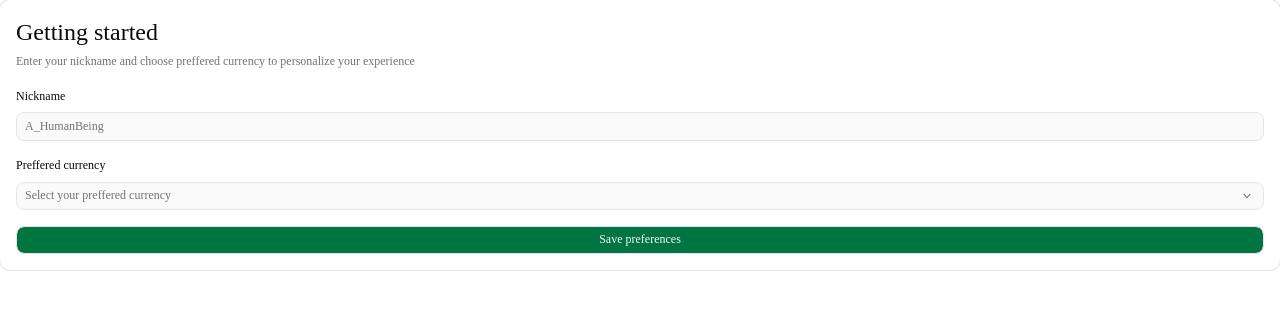
Test: CreateUserForm › should filter currencies by code as the user types
The image size is (1280, 329).
Press the mouse on the dropdown: (626, 196) [17,182,1235,210]
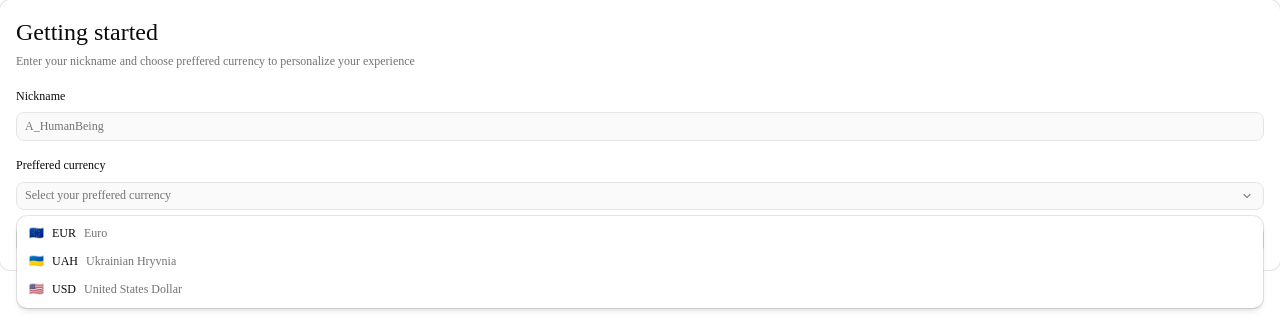
Now the list is shown, box [29,226,182,296]
In the dropdown: (626, 196) [17,182,1235,210], type "uah"
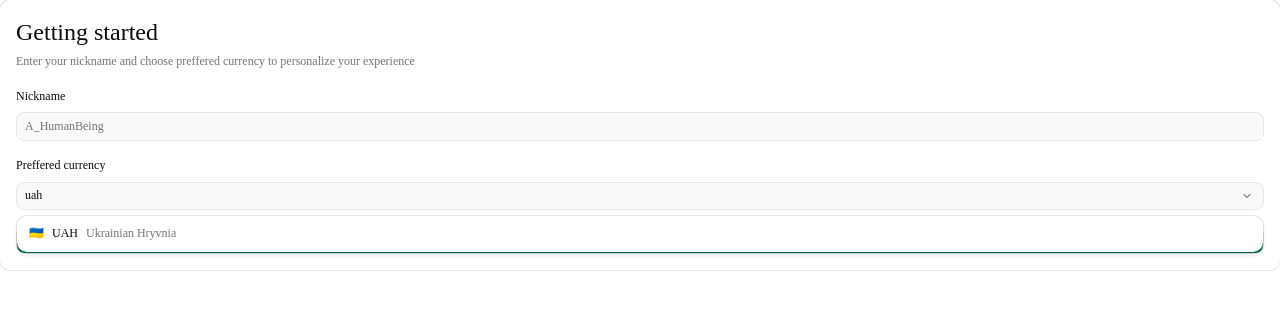
Now the option "🇺🇦 UAH Ukrainian Hryvnia" is shown, box [29,226,176,240]
Now the option "Euro" is gone
